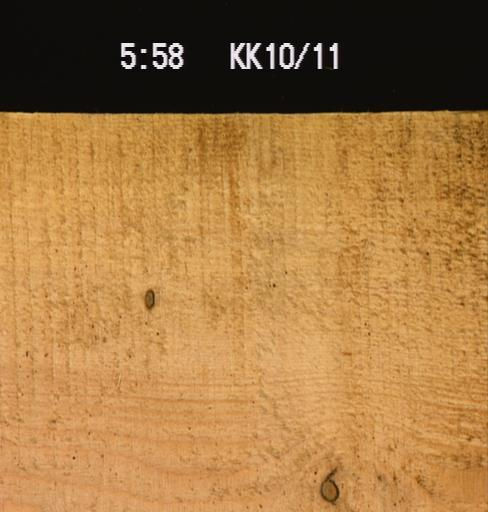dry_knot: (141, 286, 154, 310)
